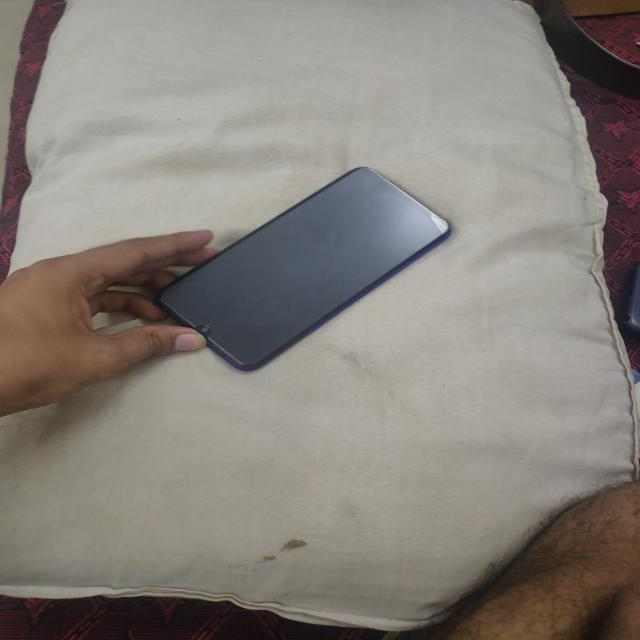Phone: (152, 160, 458, 380)
